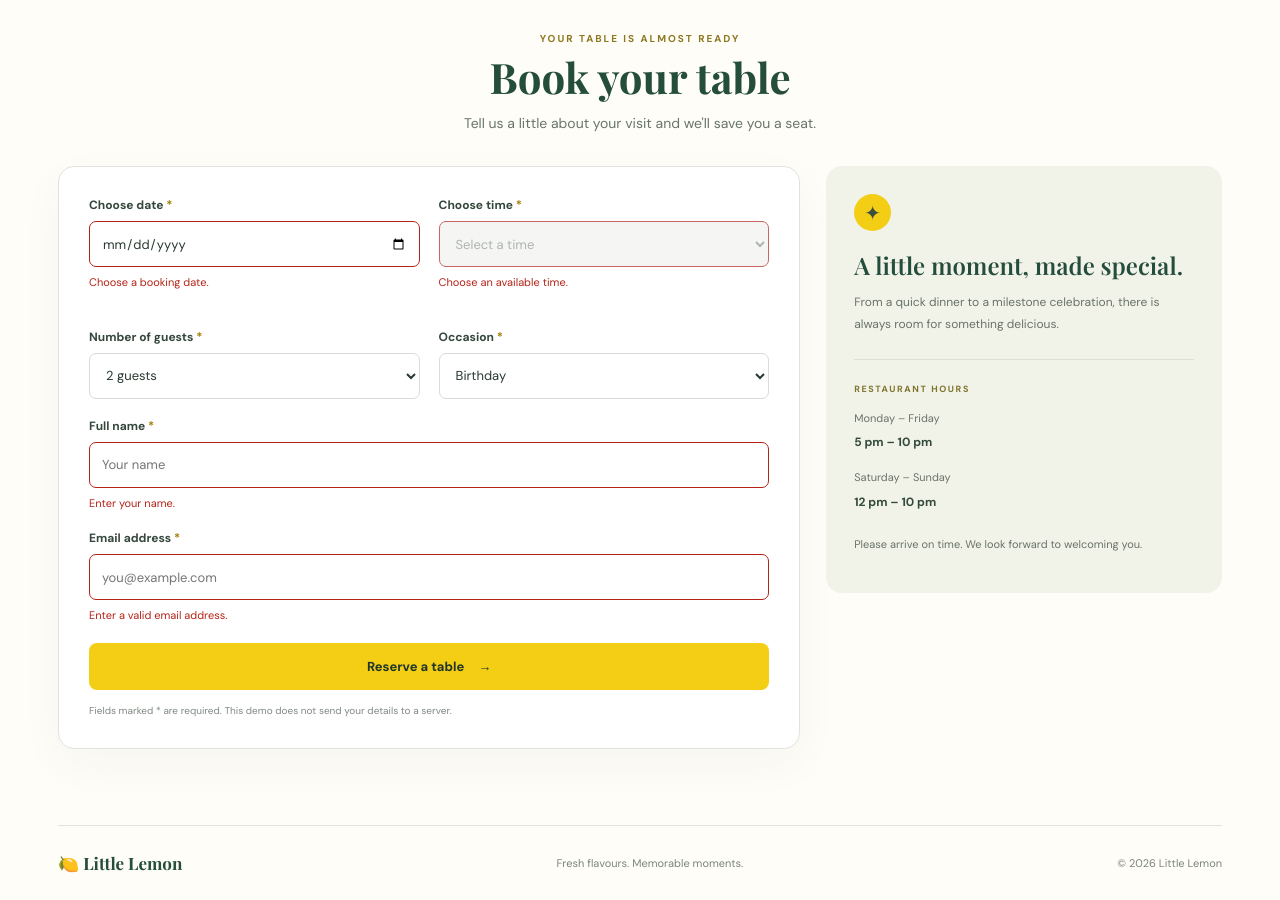
Scenario: BookingPage › shows validation feedback when an empty form is submitted
(page scrolled)
Click the button "Reserve a table →": coordinates (429, 666) [89,642,769,690]
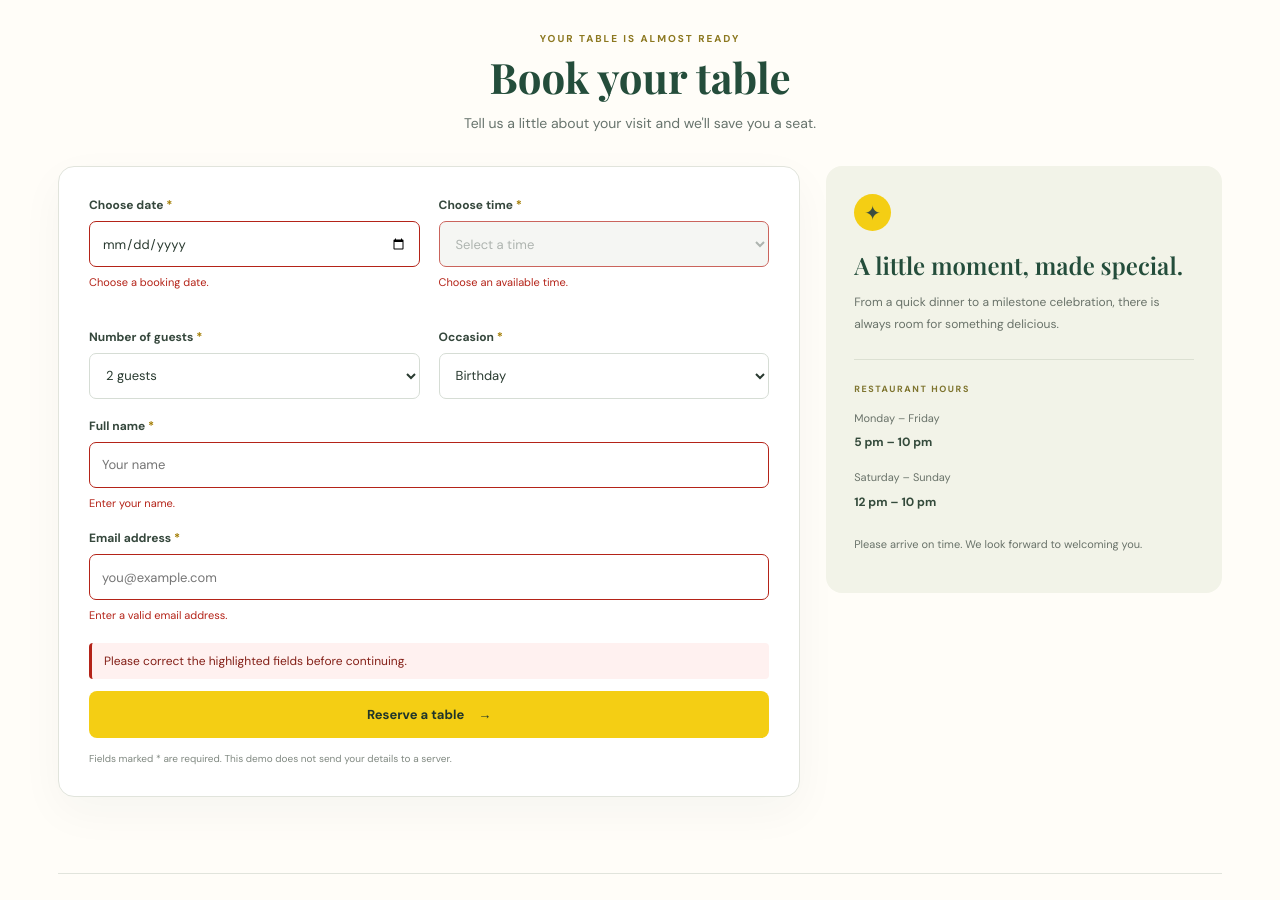
Expected: the message shows "correct the highlighted fields", [104,652,407,668]
